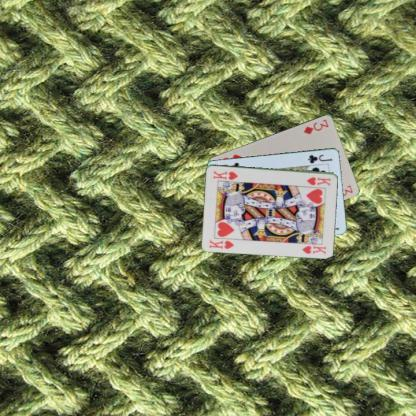3d: (300, 116, 330, 135)
Jc: (306, 152, 334, 164)
Kh: (304, 174, 332, 188), (206, 238, 236, 250)
